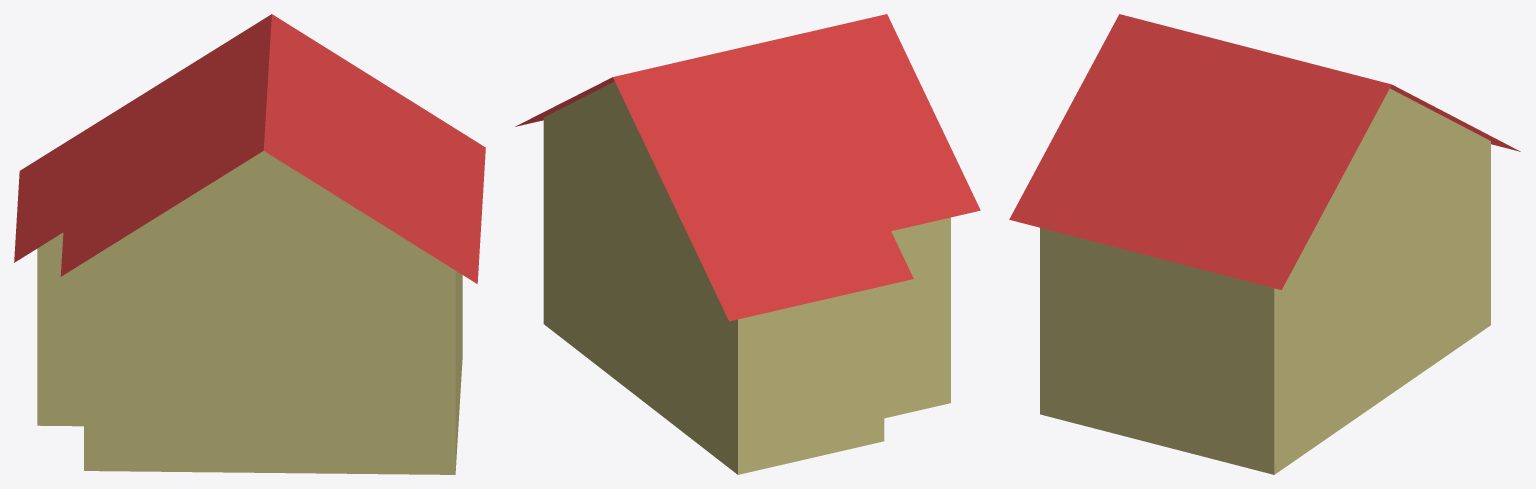
3 renders of one model, left to right at view 1: azimuth 30°, elevation 25°; view 2: azimuth 150°, elevation 25°; view 3: azimuth 270°, elevation 25°, orthographic. The views are drawn at different scales.
Size of the model in its own units: 17.36 by 17.19 by 12.11.
